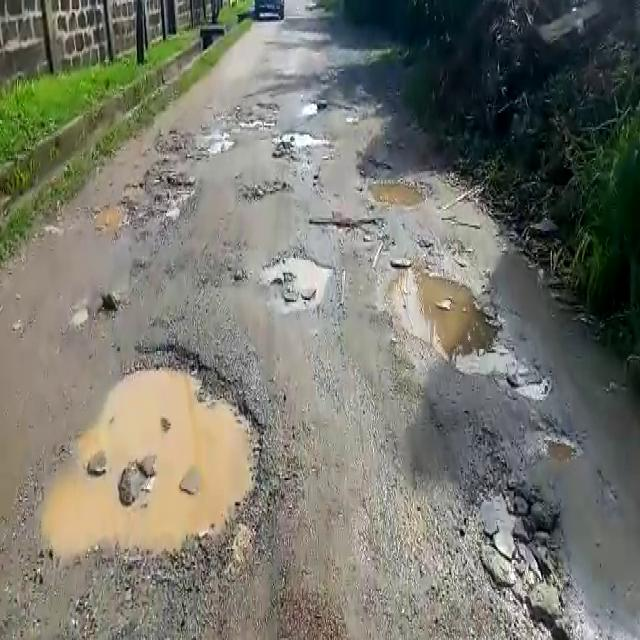Pothole: (37, 340, 269, 576), (382, 256, 504, 357), (90, 161, 195, 237), (264, 248, 328, 308), (365, 172, 432, 208), (528, 416, 578, 464), (448, 346, 523, 377), (311, 215, 389, 243), (274, 127, 335, 150), (240, 177, 292, 202)
